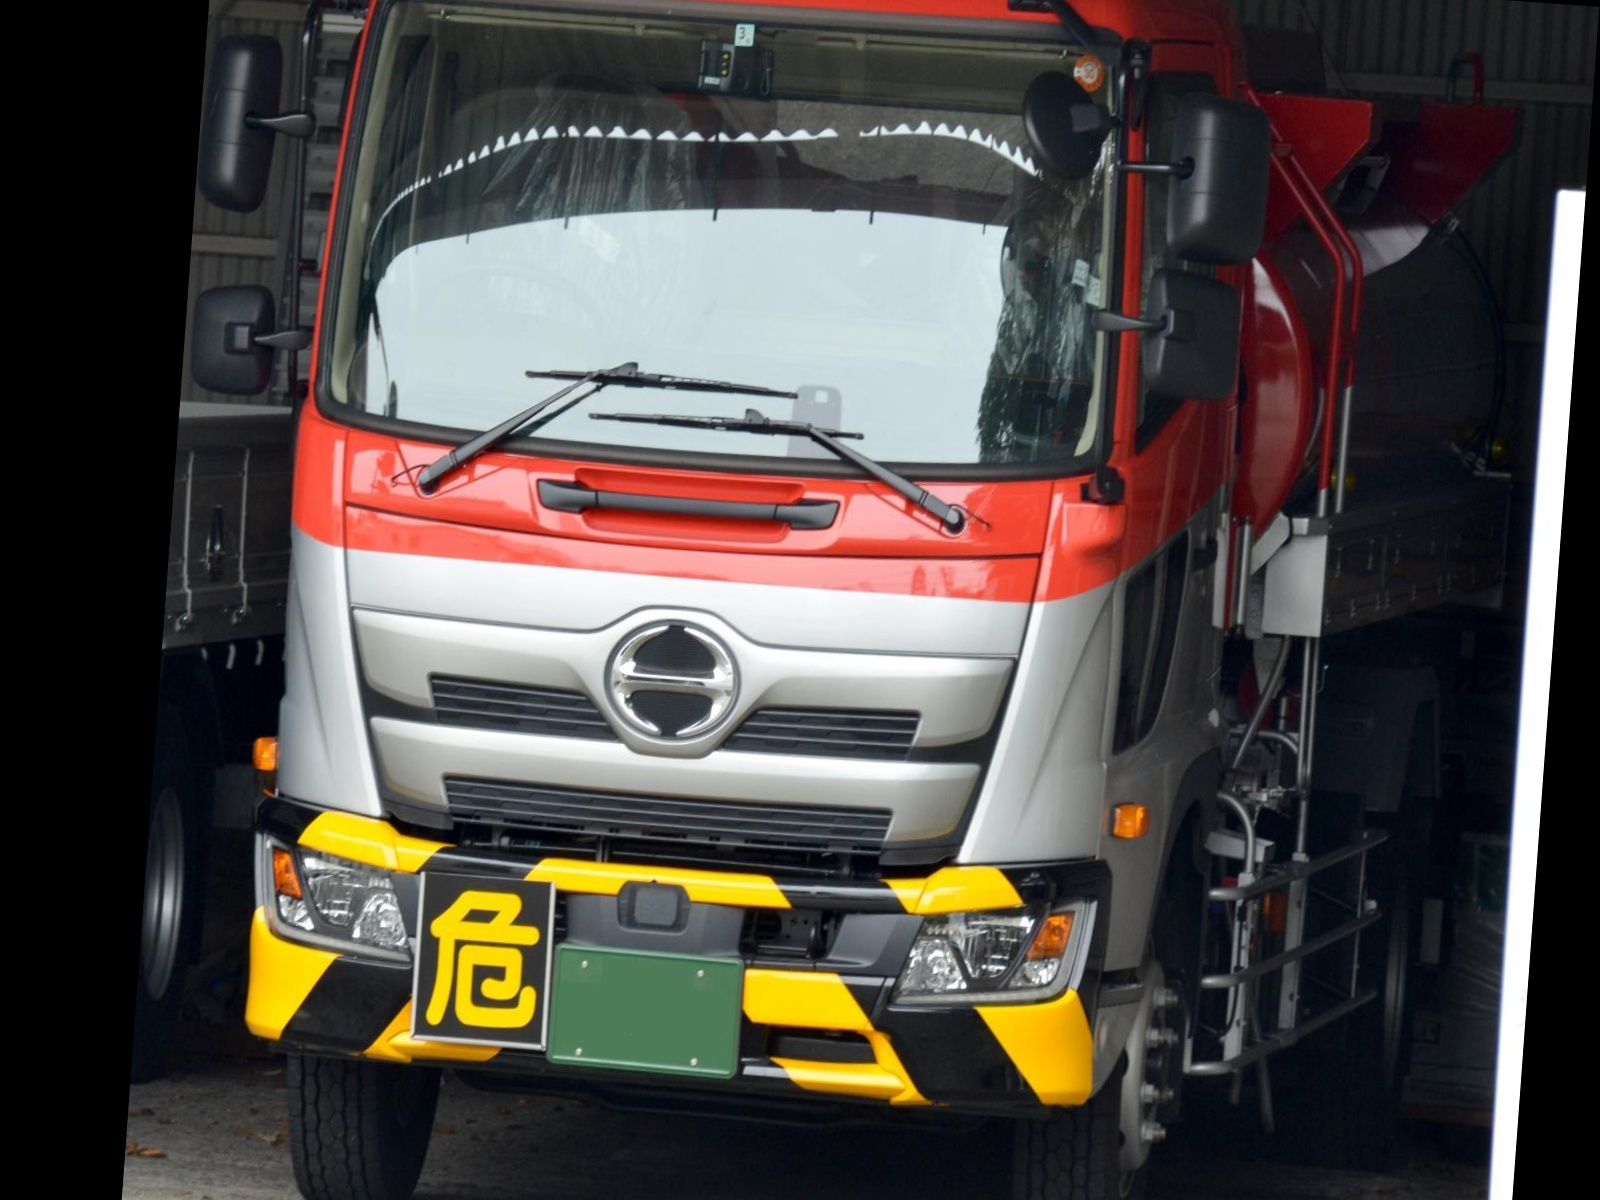truck: (209, 0, 1520, 1200)
